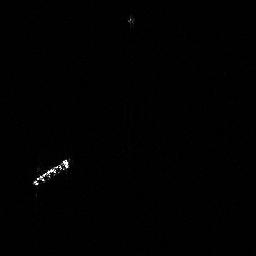ship: (28, 155, 74, 189)
